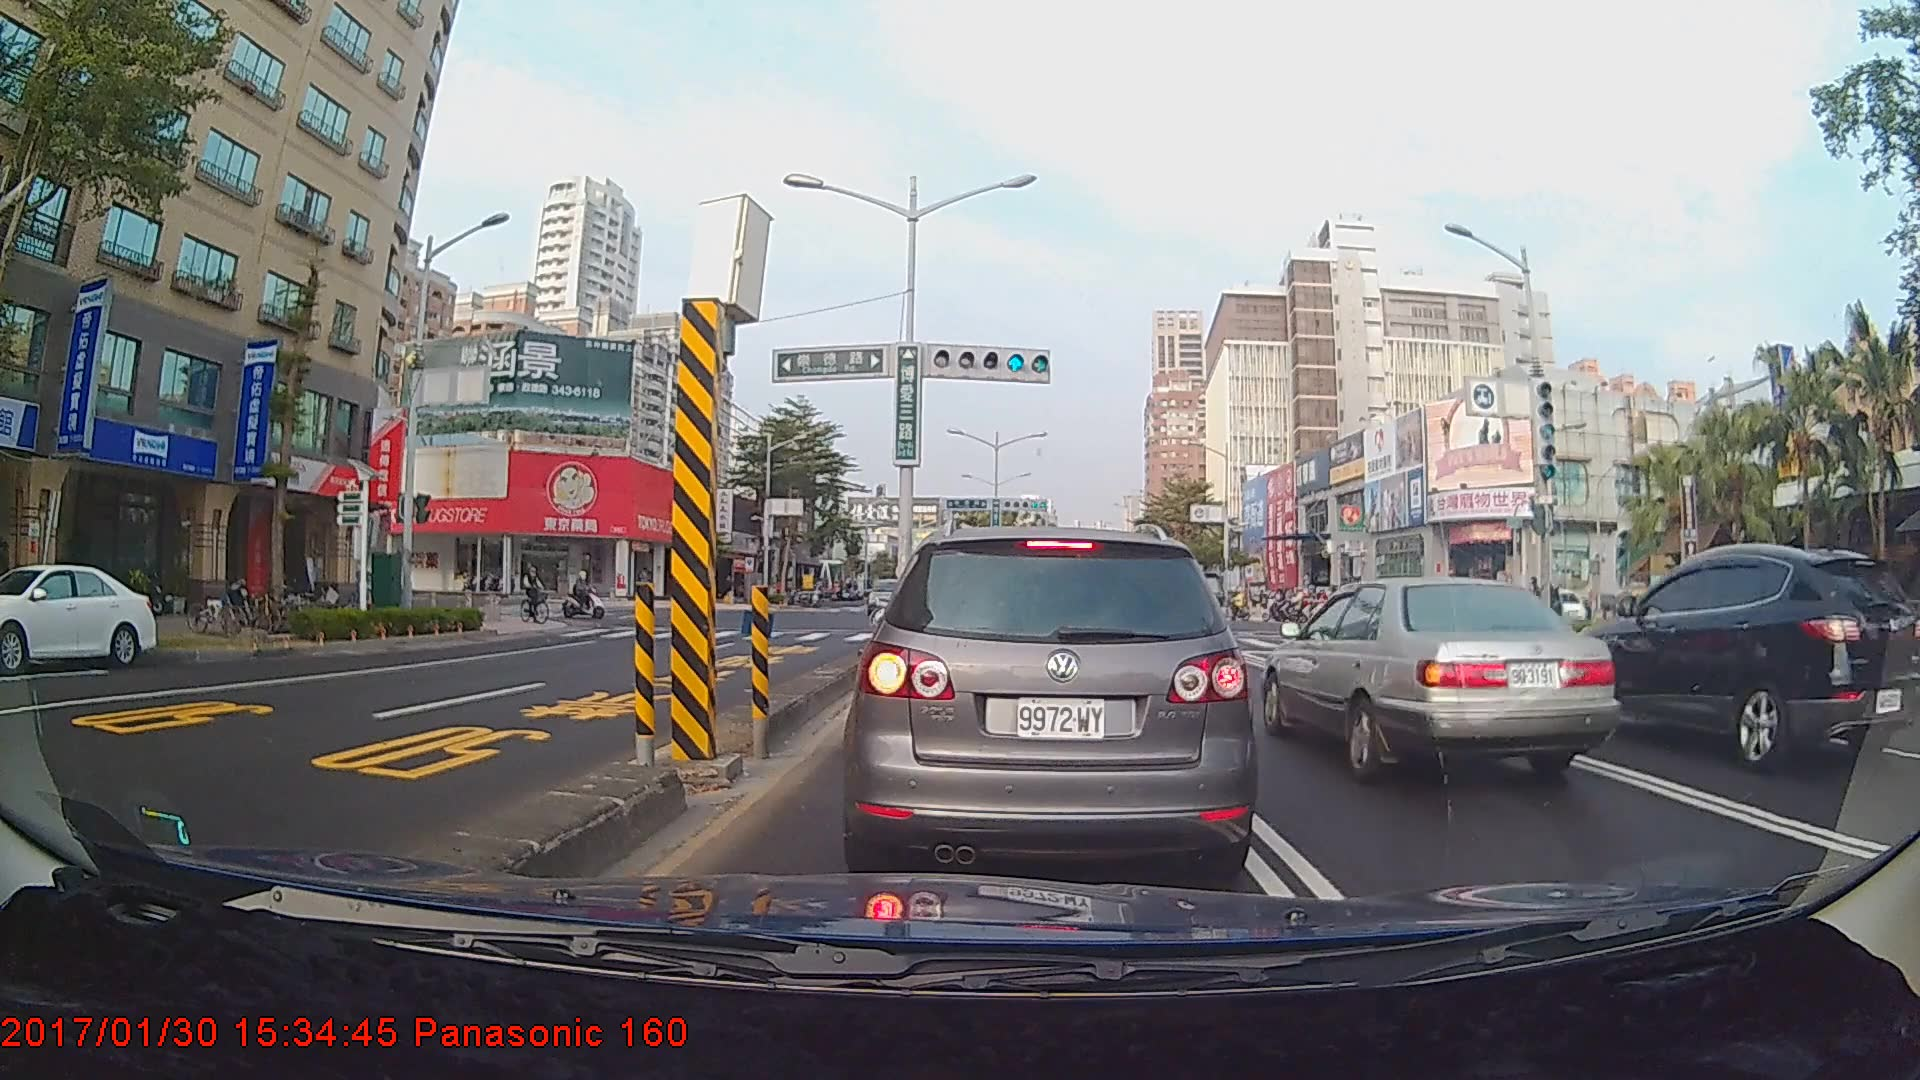rider: (518, 559, 561, 629), (564, 568, 615, 625)
vehicle: (852, 522, 1248, 882), (1580, 541, 1920, 773), (1257, 573, 1625, 782), (0, 561, 162, 671)
